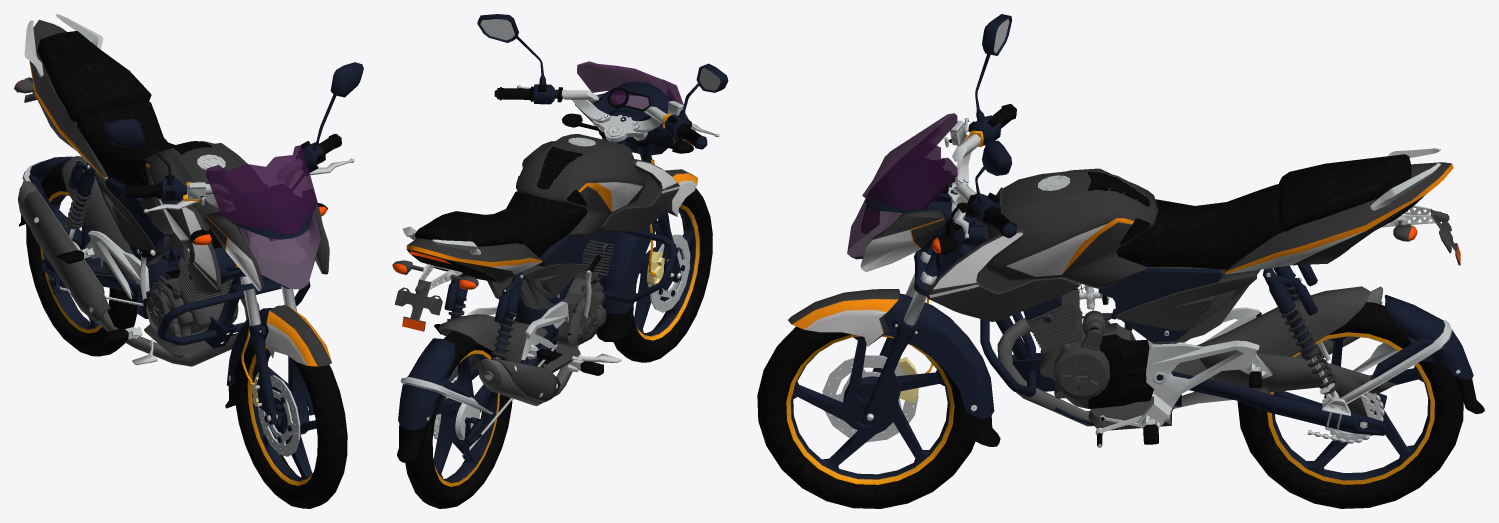
The picture shows the model from 3 angles, left to right: view 1: azimuth 30°, elevation 25°; view 2: azimuth 150°, elevation 25°; view 3: azimuth 270°, elevation 25°; orthographic projection. The views are drawn at different scales.
Parts seen in each view (by area): view 1: body, wheel_f, wheel_r; view 2: body, wheel_f, wheel_r; view 3: body, wheel_f, wheel_r.
Part boxes in pixels (x1,y1,x2,y2): body: [14, 14, 363, 442]; wheel_f: [226, 324, 347, 508]; wheel_r: [26, 165, 137, 356]; body: [392, 14, 728, 462]; wheel_f: [613, 183, 712, 362]; wheel_r: [405, 330, 512, 508]; body: [788, 14, 1484, 447]; wheel_f: [757, 311, 984, 508]; wheel_r: [1237, 302, 1463, 508].
Size of the model in its own units: 0.9552 by 1.29 by 2.
7 materials, 6 textured.
